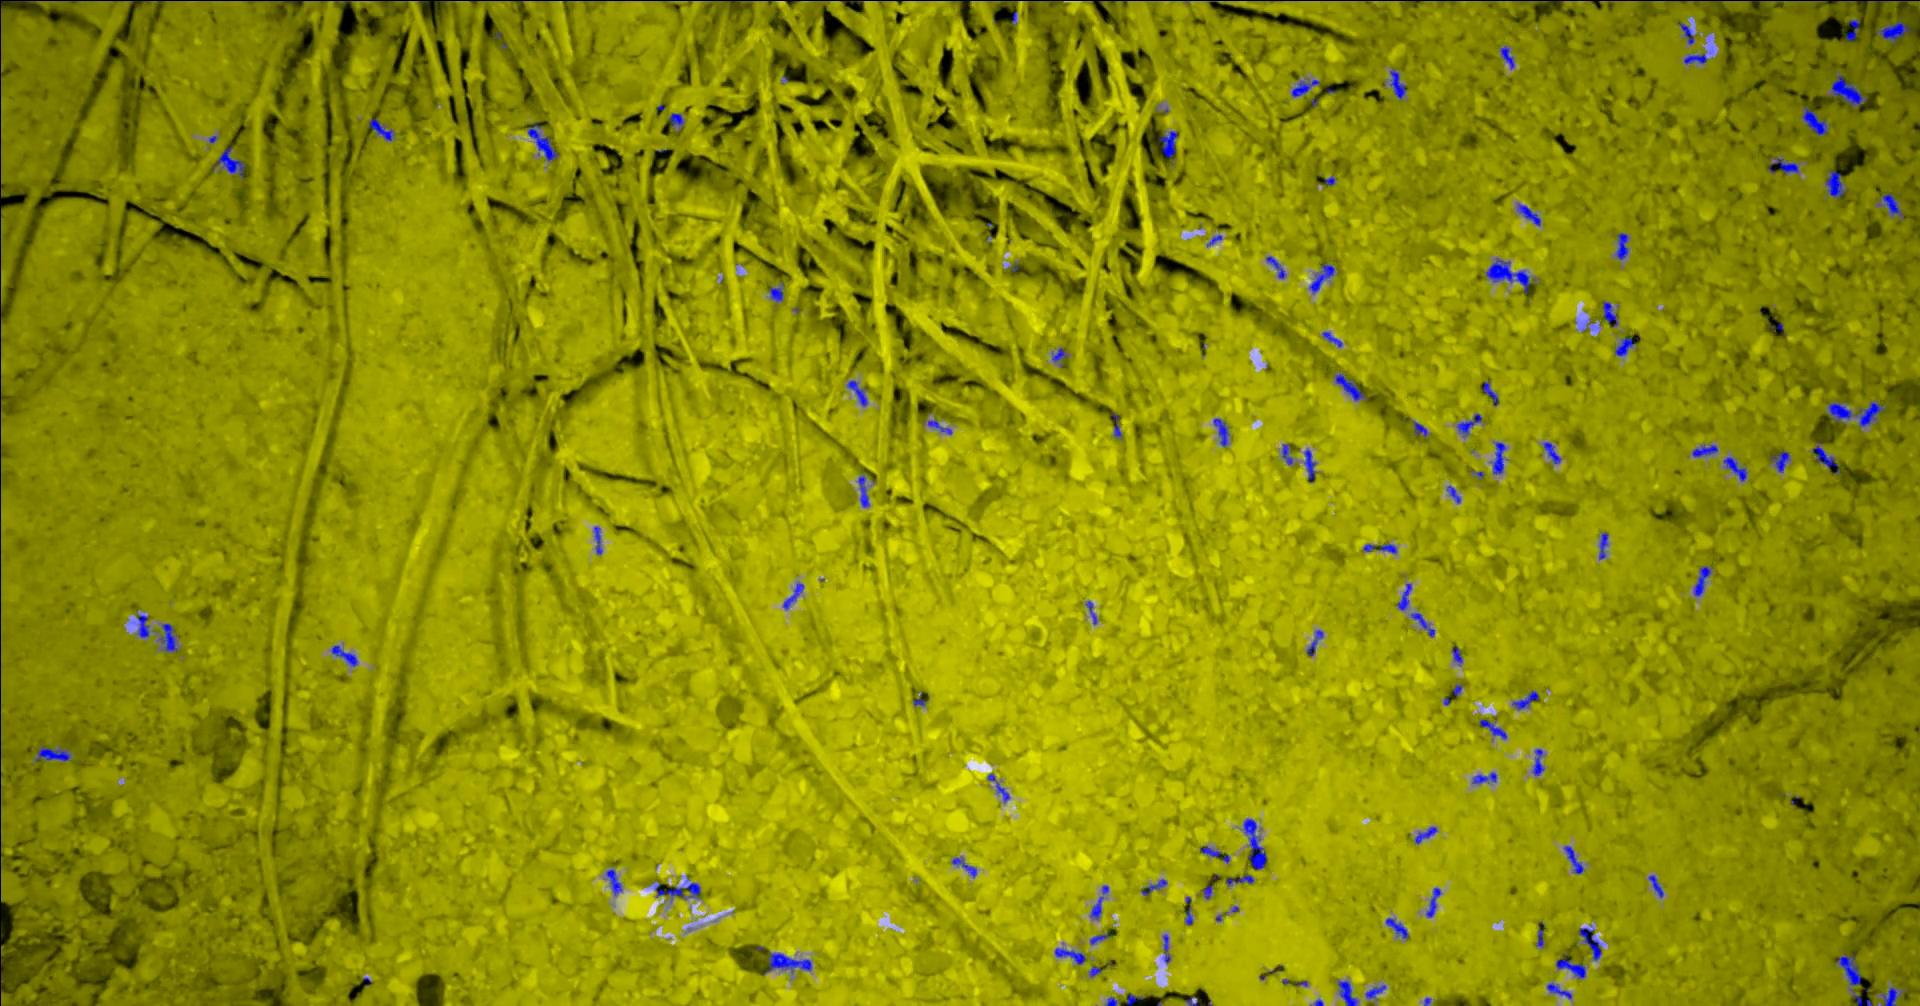ant: (1836, 953, 1907, 1005), (1484, 258, 1535, 293), (1827, 400, 1884, 426), (527, 121, 557, 160), (1831, 74, 1867, 107), (1243, 818, 1266, 869), (761, 951, 811, 974), (212, 146, 245, 178), (1811, 441, 1839, 474), (1335, 372, 1365, 400), (1876, 20, 1911, 43), (1801, 105, 1827, 135), (654, 882, 700, 898), (1578, 927, 1601, 960), (1309, 263, 1335, 292), (1556, 953, 1585, 978), (1383, 69, 1406, 99), (985, 774, 1010, 801), (1090, 885, 1109, 920), (1722, 456, 1747, 481), (1879, 193, 1903, 220), (1158, 130, 1177, 161), (1825, 170, 1846, 198), (1563, 845, 1583, 874), (1410, 612, 1434, 636), (846, 380, 867, 406), (1479, 718, 1506, 739), (1693, 567, 1712, 596), (1516, 203, 1540, 226), (1457, 413, 1481, 436), (368, 118, 394, 140), (1490, 441, 1506, 474), (782, 582, 803, 608), (330, 645, 357, 666), (1199, 845, 1229, 862), (1511, 690, 1538, 709), (1425, 887, 1441, 917), (1054, 948, 1084, 964), (1291, 79, 1319, 97), (36, 746, 71, 760), (1337, 981, 1357, 1005), (951, 857, 977, 876), (160, 622, 177, 652), (1305, 629, 1323, 655), (1768, 158, 1798, 173), (1265, 255, 1285, 278), (1769, 450, 1789, 473), (1385, 917, 1408, 937), (604, 868, 621, 895), (1140, 878, 1166, 895), (1213, 418, 1228, 447), (1303, 448, 1316, 481), (1545, 982, 1571, 998), (1396, 583, 1411, 610), (1415, 826, 1437, 843), (1482, 381, 1498, 405), (927, 418, 951, 434), (1614, 337, 1634, 356), (1543, 441, 1559, 464), (857, 474, 869, 507), (1498, 44, 1514, 69), (1603, 301, 1617, 326), (1677, 22, 1693, 44), (137, 614, 152, 636), (1648, 874, 1663, 897), (1615, 232, 1628, 259), (1531, 748, 1544, 775), (1363, 542, 1396, 553), (1321, 332, 1342, 347), (1225, 874, 1253, 885), (1051, 347, 1067, 367), (768, 282, 783, 301), (1691, 445, 1717, 456), (1084, 600, 1097, 622), (1845, 19, 1859, 39), (1365, 984, 1385, 998), (1111, 412, 1121, 438), (1597, 532, 1608, 559), (1470, 772, 1496, 782), (668, 112, 683, 128), (1446, 485, 1460, 503), (593, 526, 602, 554), (1183, 895, 1192, 923), (1683, 53, 1707, 64), (1090, 931, 1109, 944), (1535, 921, 1544, 948), (1412, 420, 1427, 436), (1162, 934, 1170, 962), (1281, 443, 1291, 464), (1126, 993, 1143, 1005), (1451, 647, 1462, 664)
